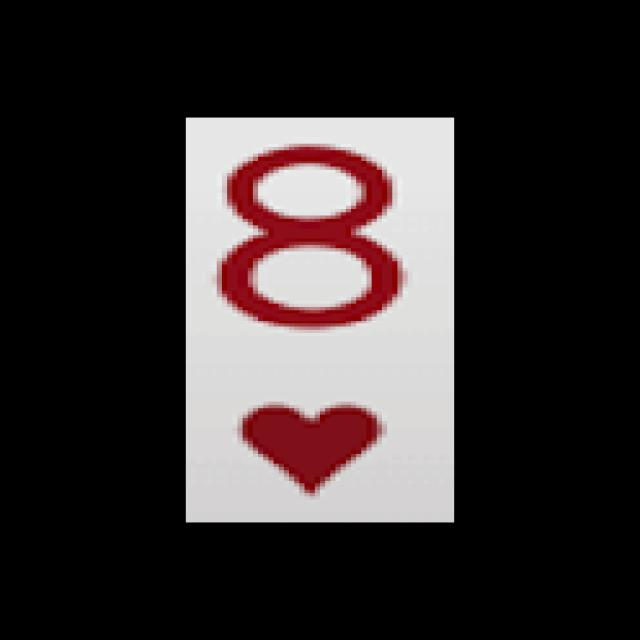8H: (204, 133, 427, 508)
